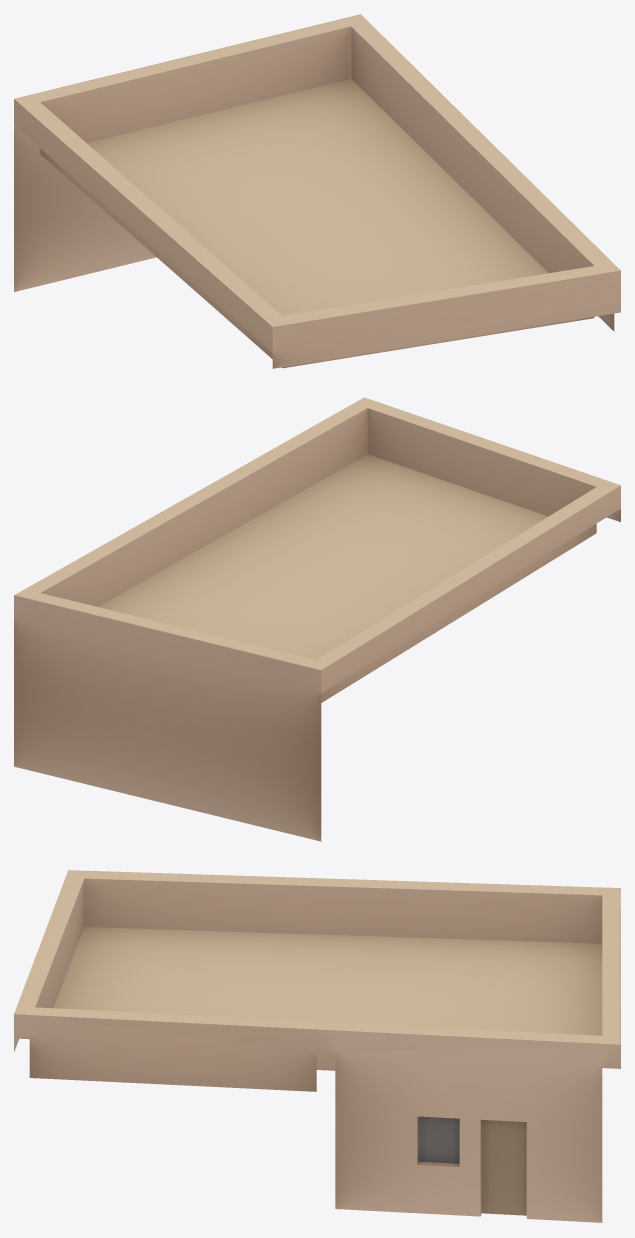
The picture shows the model from 3 angles, top to bottom: view 1: azimuth 30°, elevation 25°; view 2: azimuth 150°, elevation 25°; view 3: azimuth 270°, elevation 25°; orthographic projection. The views are drawn at different scales.
Visible parts, largest first — view 1: atturaifworldheritagesite70030076676983790; view 2: atturaifworldheritagesite70030076676983790; view 3: atturaifworldheritagesite70030076676983790.
Part boxes in pixels (left/top/right/bottom): atturaifworldheritagesite70030076676983790: left=14, top=14, right=620, bottom=368; atturaifworldheritagesite70030076676983790: left=14, top=397, right=620, bottom=841; atturaifworldheritagesite70030076676983790: left=14, top=870, right=620, bottom=1222.
Size of the model in its own units: 7.74 by 3.7 by 11.37.
1 material, 1 textured.
